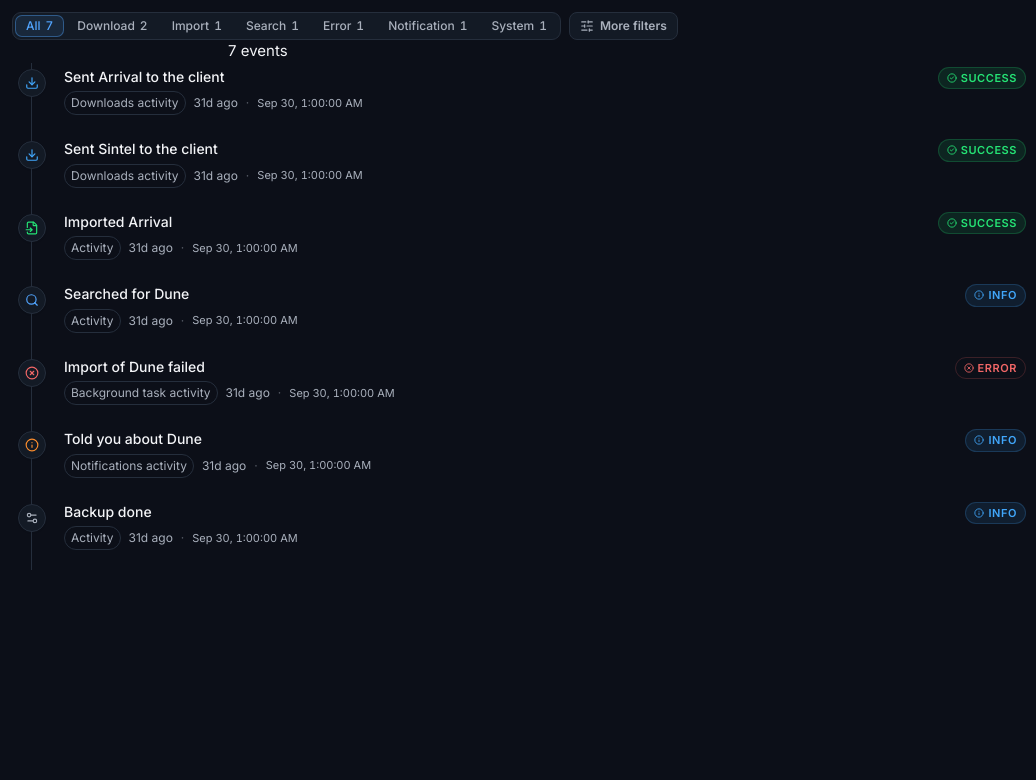
Scenario: System timeline chips, search and counts (#1329) › each kind chip carries its count, picking one narrows the list, and the card says 'N events matching'
Expected: the radio button labelled "All 7" is shown, top-left (15, 15), bottom-right (64, 37)
Expected: the radio button labelled "Import 1" is shown, top-left (161, 15), bottom-right (233, 37)
Click the radio button labelled "Download 2" at (112, 26), box top-left (66, 15), bottom-right (159, 37)
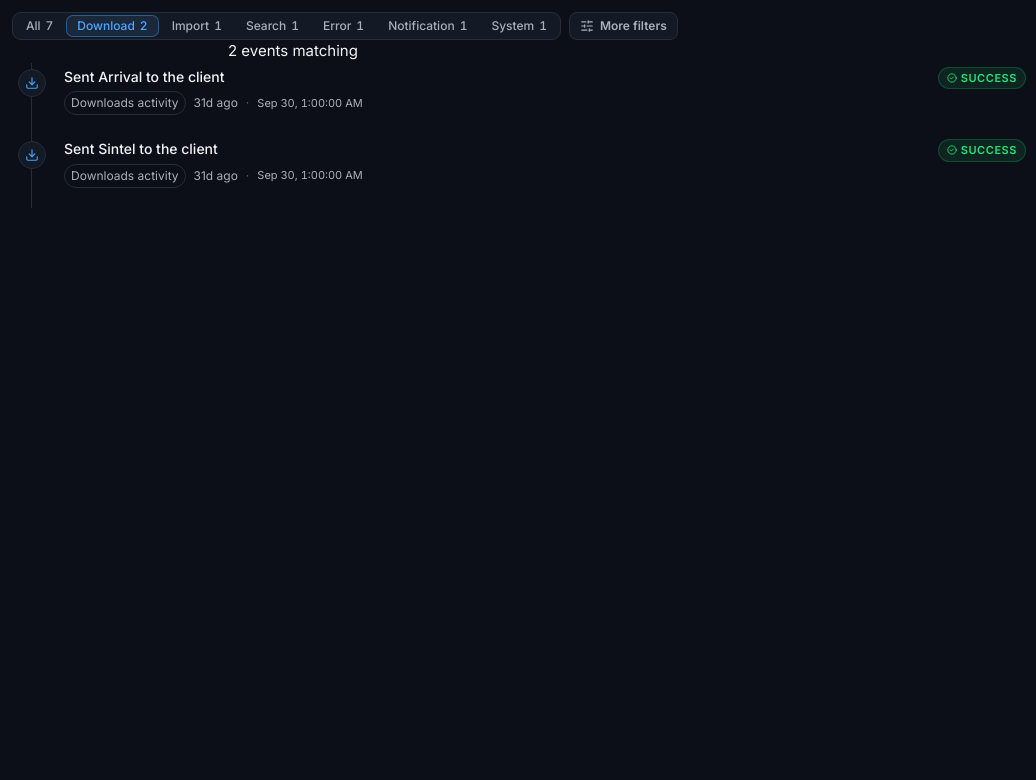
Expected: the number of list items is 2, top-left (12, 62), bottom-right (1026, 135); top-left (12, 135), bottom-right (1026, 208)
Expected: the text named "count" reads "2 events matching", top-left (228, 41), bottom-right (358, 60)
Expected: the text "Imported Arrival" is gone
Click the radio button labelled "Error 1" at (344, 26), box top-left (312, 15), bottom-right (375, 37)
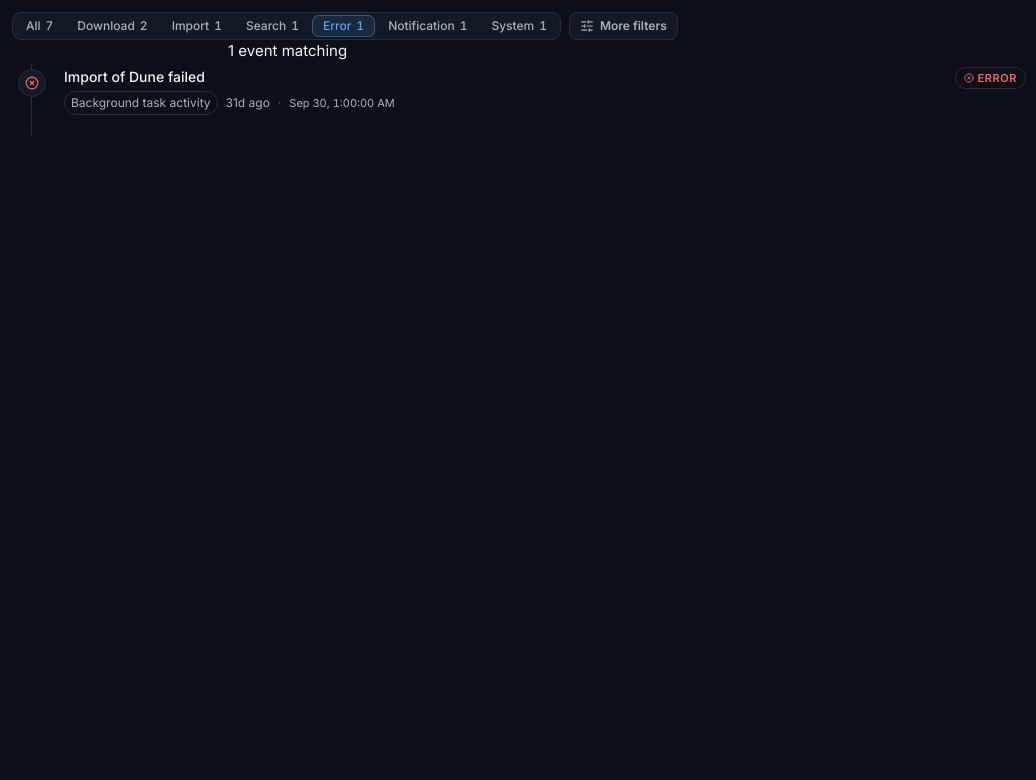
Expected: the text named "count" reads "1 event matching", top-left (228, 41), bottom-right (347, 60)
